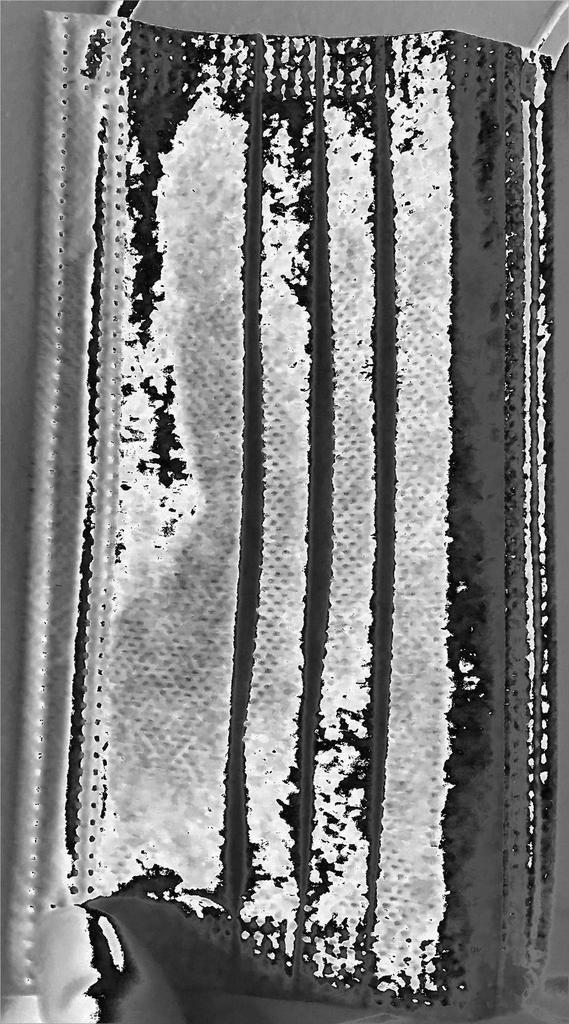High GSM: (67, 12, 467, 901)
